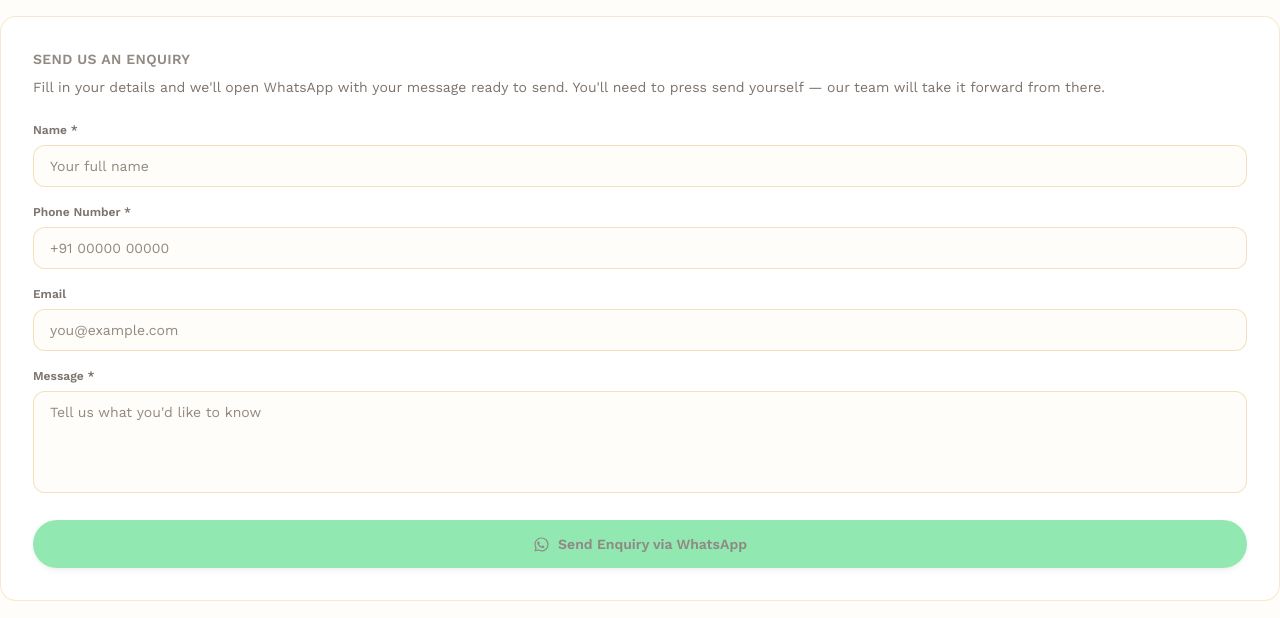
Test: ContactForm › disables the send button until name, phone, and message are filled
Expected: the button "Send Enquiry via WhatsApp" is disabled, [33,520,1247,568]
Step 1. Type "Test Customer" into the field with placeholder "Your full name" → (640, 166), box [33,145,1247,187]
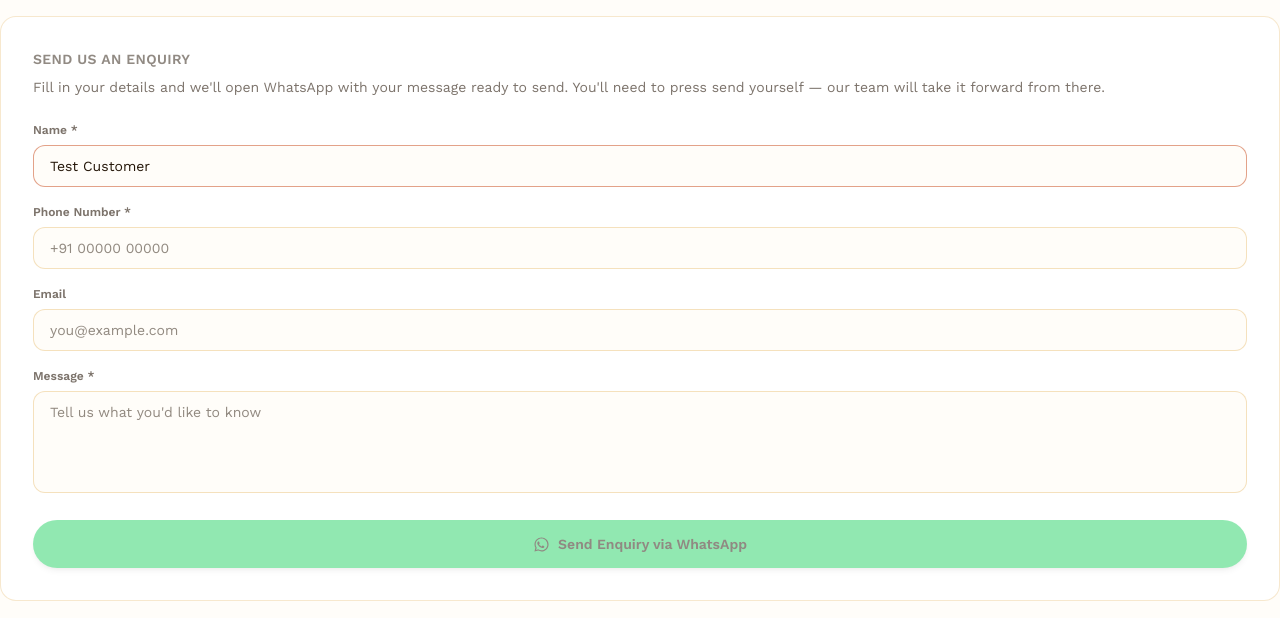
Step 2. Type "9876543210" into the field with placeholder "+91 00000 00000" → (640, 248), box [33,227,1247,269]
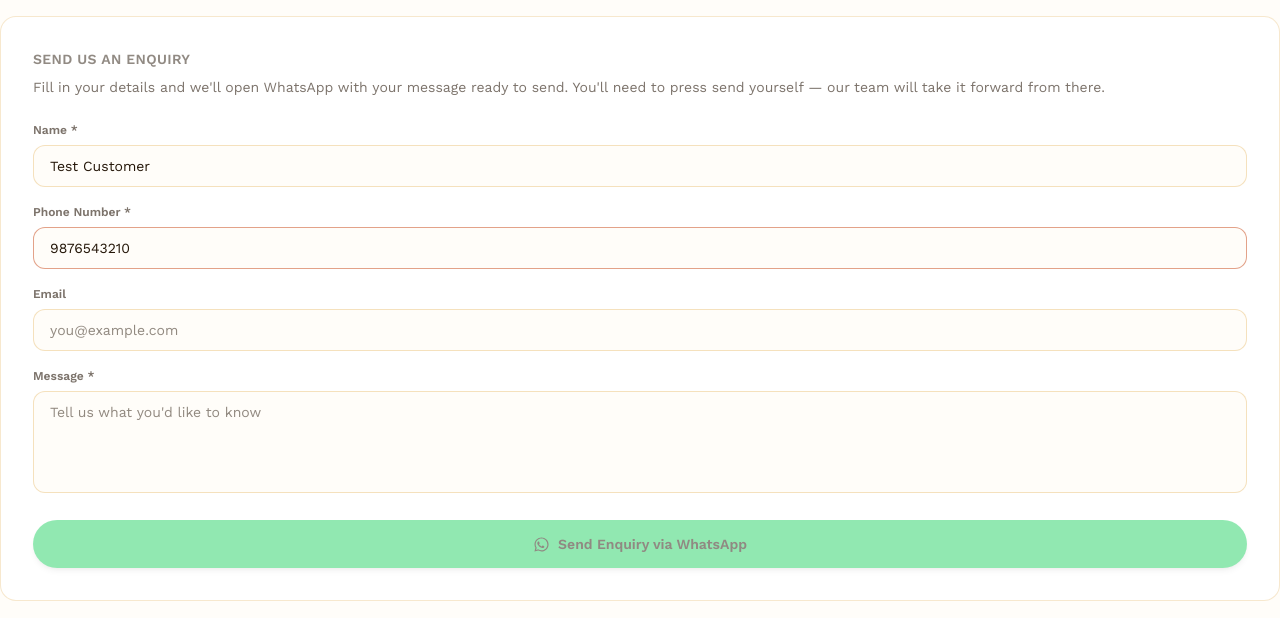
Expected: the button "Send Enquiry via WhatsApp" is disabled, [33,520,1247,568]
Step 3. Type "Question about pricing" into the text box with placeholder "Tell us what you'd like to know" → (640, 442), box [33,391,1247,493]
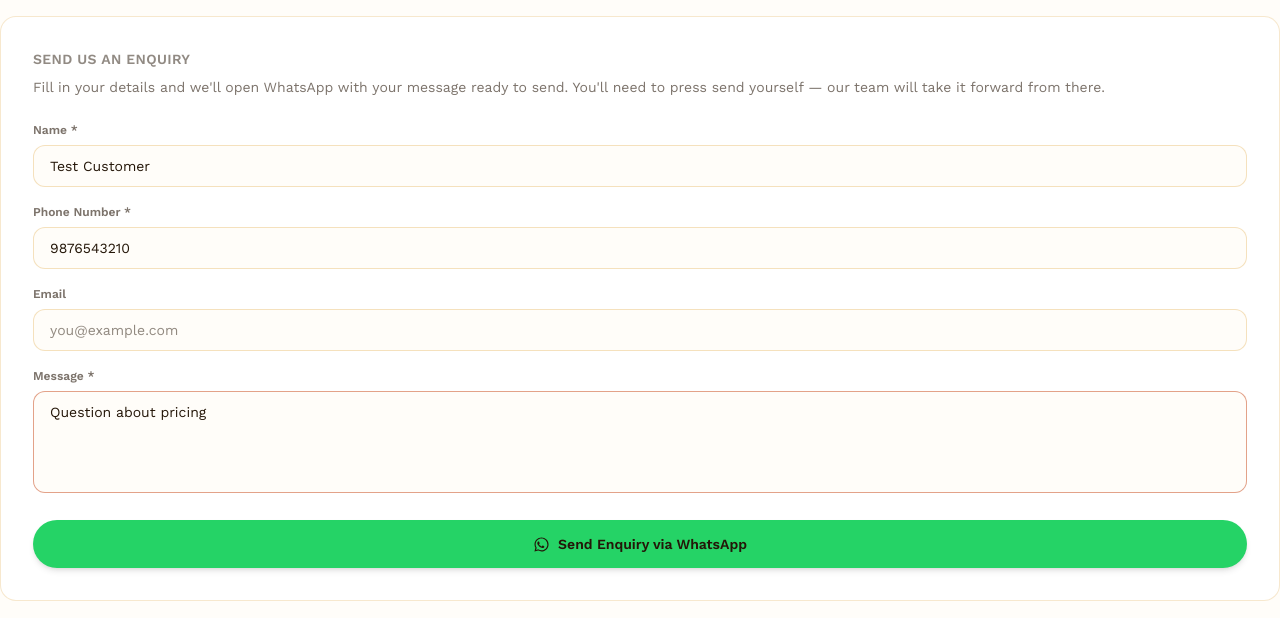
Result: the button "Send Enquiry via WhatsApp" is enabled at [33,520,1247,568]
